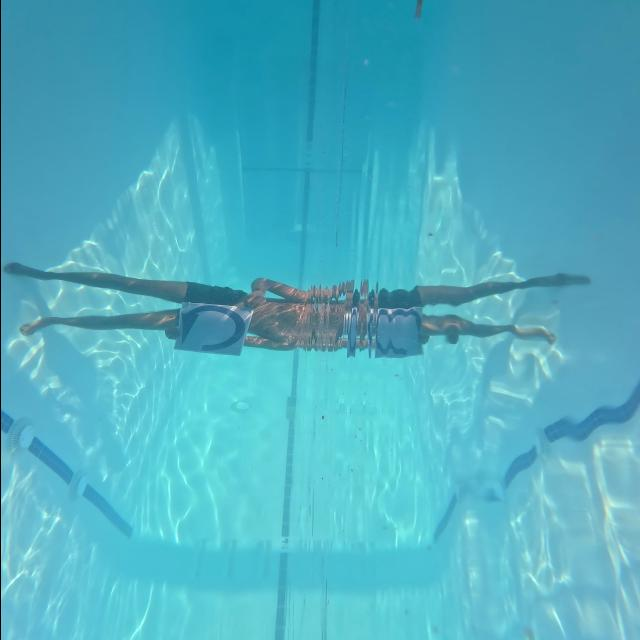blue_side: (155, 298, 264, 360)
